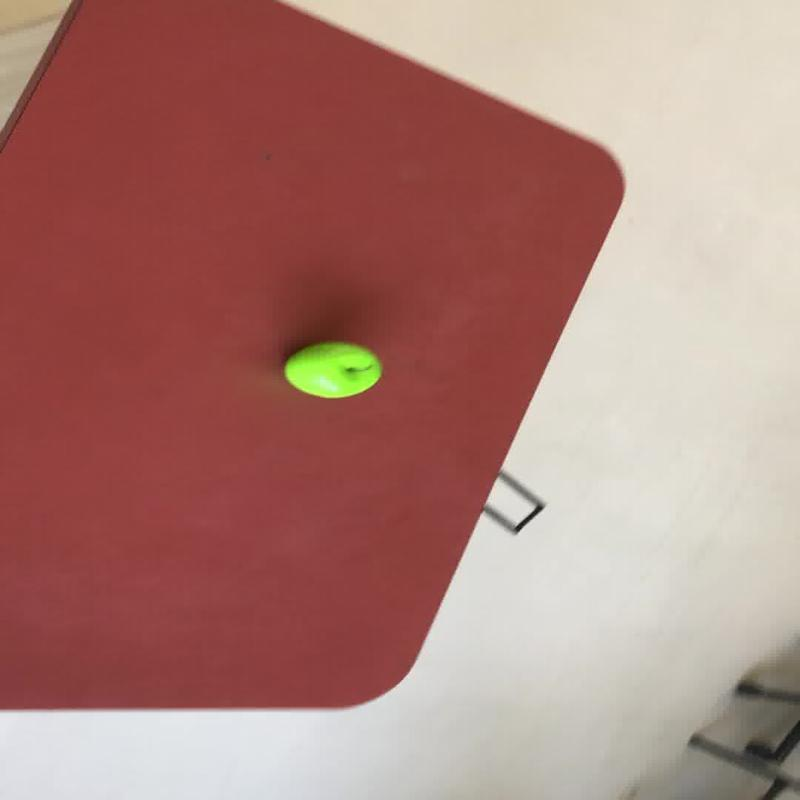apple: (282, 340, 382, 399)
